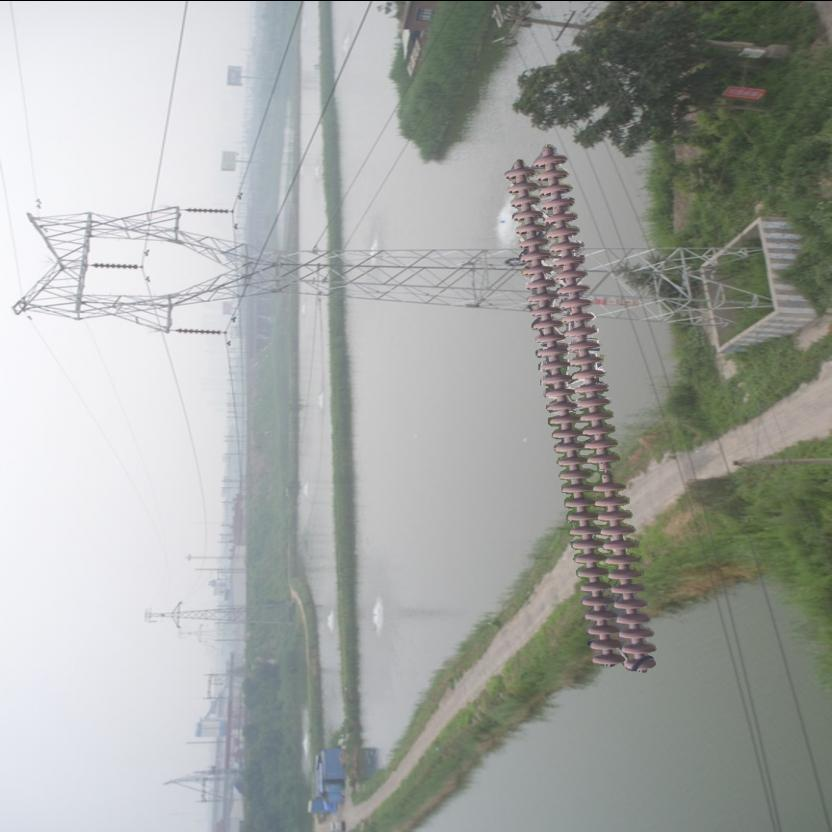defect: (585, 448, 626, 494)
